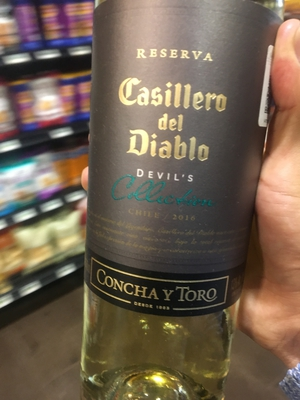casillero del diablo devils collection verde: (72, 3, 278, 391)
